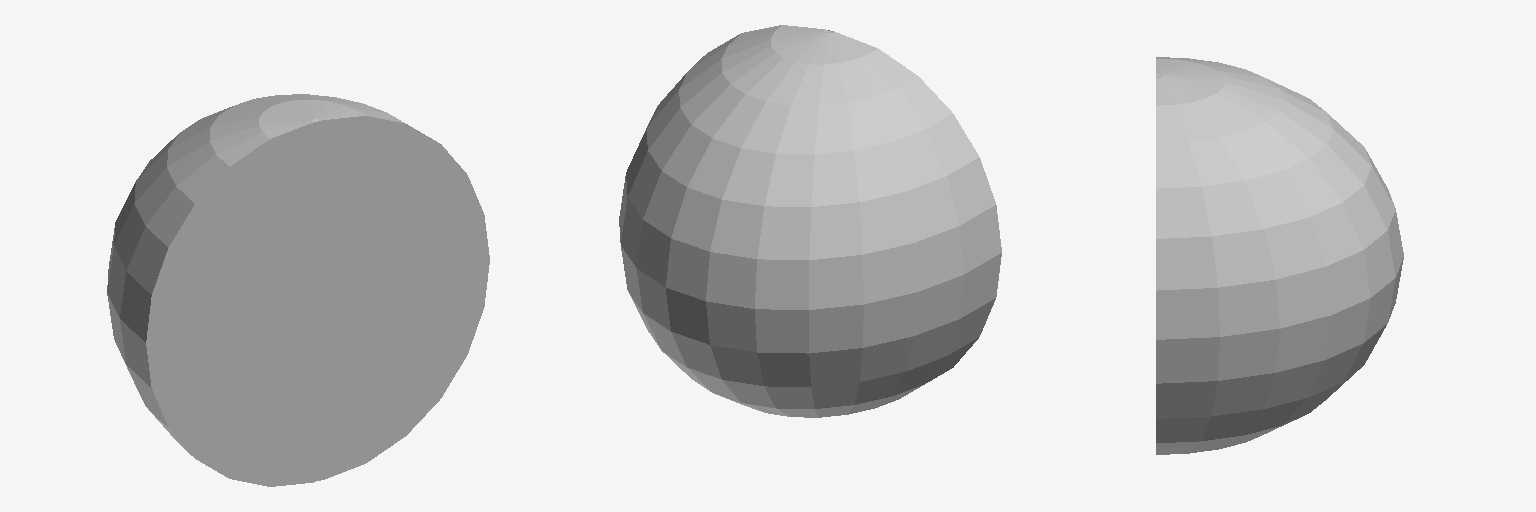
The model's file is miningBase.obj.
3 renders of one model, left to right at view 1: azimuth 30°, elevation 25°; view 2: azimuth 150°, elevation 25°; view 3: azimuth 270°, elevation 25°, orthographic.
Size of the model in its own units: 0.8 by 0.8 by 0.5.